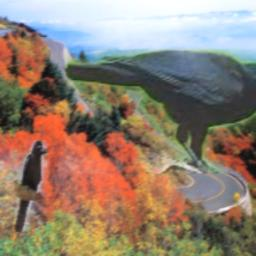Crow: (65, 49, 256, 173), (15, 141, 47, 233)
